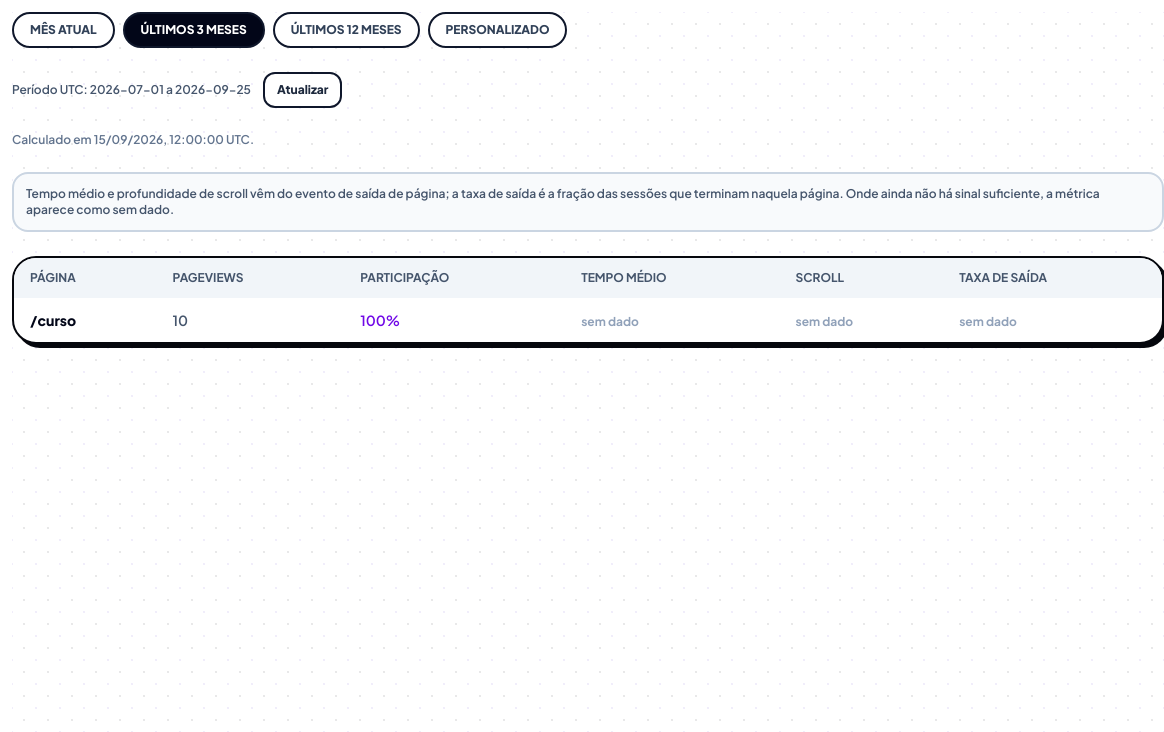
Test: Páginas recuperadas › consulta principal indisponível preserva dados anteriores do mesmo período
This screenshot has width=1164, height=732.
Expected: the text "/curso" is shown, [14,298,157,342]
Click the button "Atualizar". click: (303, 90)
box: [263,72,342,108]
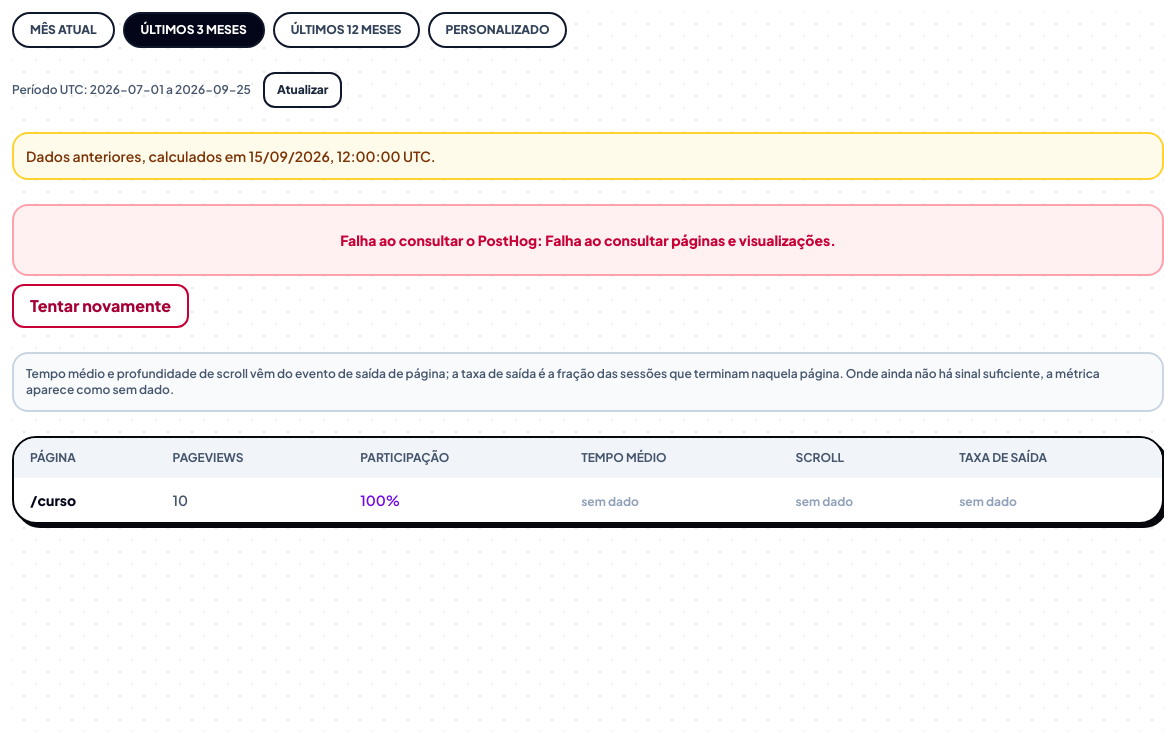
Expected: the text "/curso" is shown, [14,478,157,522]
Now the text "Dados anteriores, calculados em 15/09/2026, 12:00:00 UTC." is shown, box [12,132,1163,180]
Now the text "Falha ao consultar o PostHog" is shown, box [340,231,836,249]
